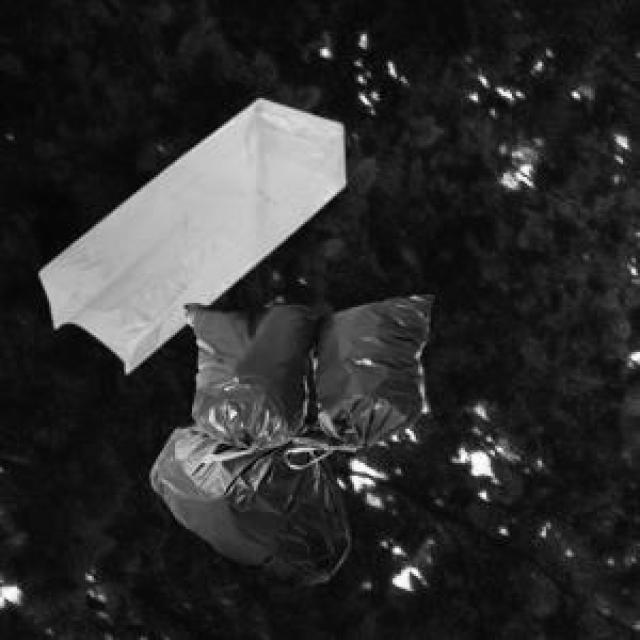miscellaneous trash: (182, 290, 431, 459), (147, 417, 346, 582)
